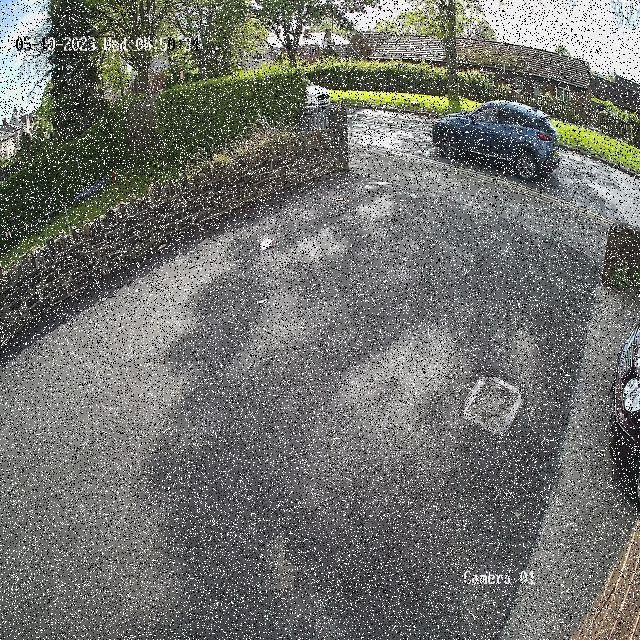vehicle: (428, 94, 562, 190), (298, 73, 332, 115)
